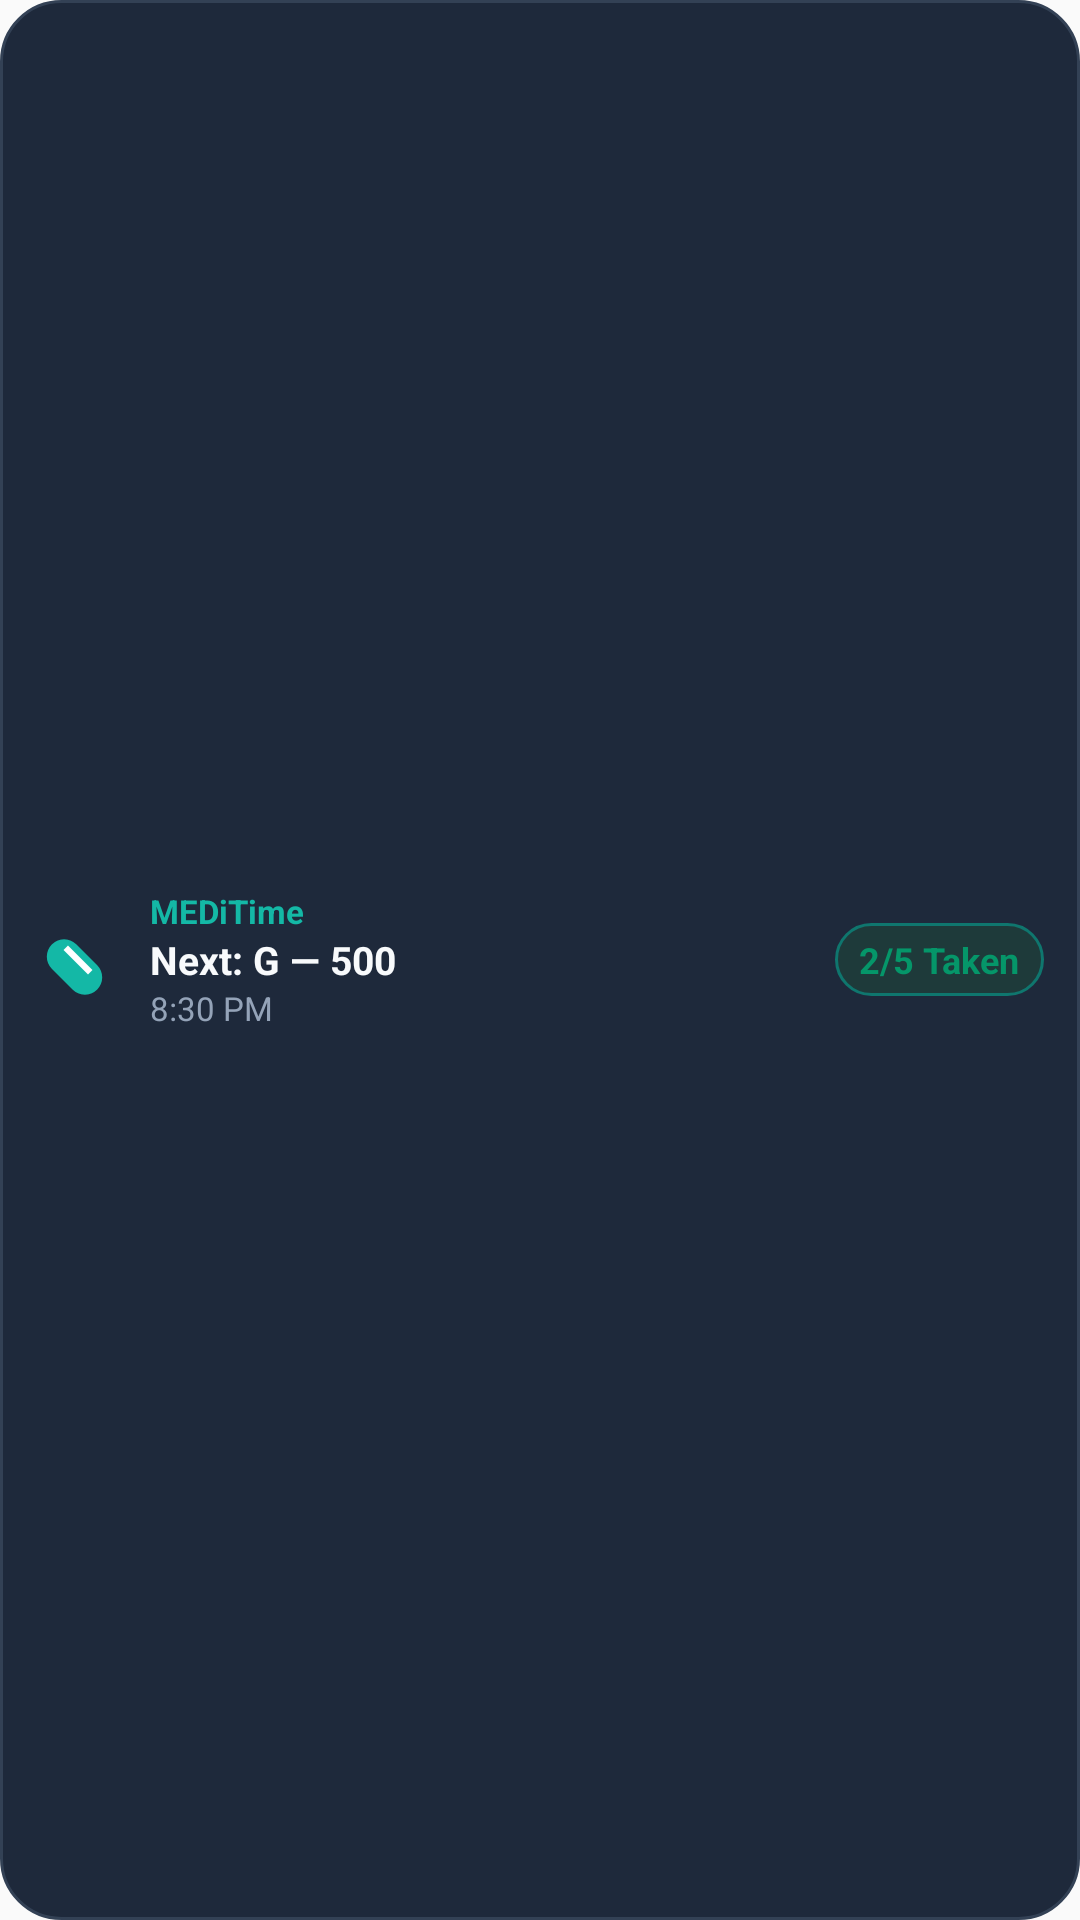

Locate icon controls on the screen. Image size 1080 × 1920, boxes as BBox(x1, y1, x2, y2).
med pill: BBox(47, 939, 102, 995)
